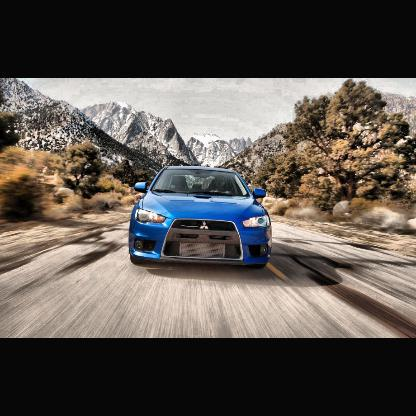Mitsubishi Lancer Sedan 2012: (129, 165, 275, 276)
